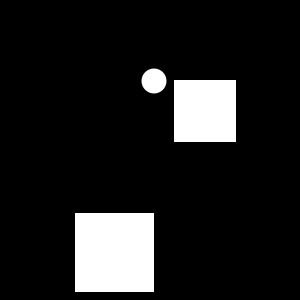circle: (75, 213, 154, 292), (174, 80, 236, 142)
rectangle: (142, 69, 166, 94)
